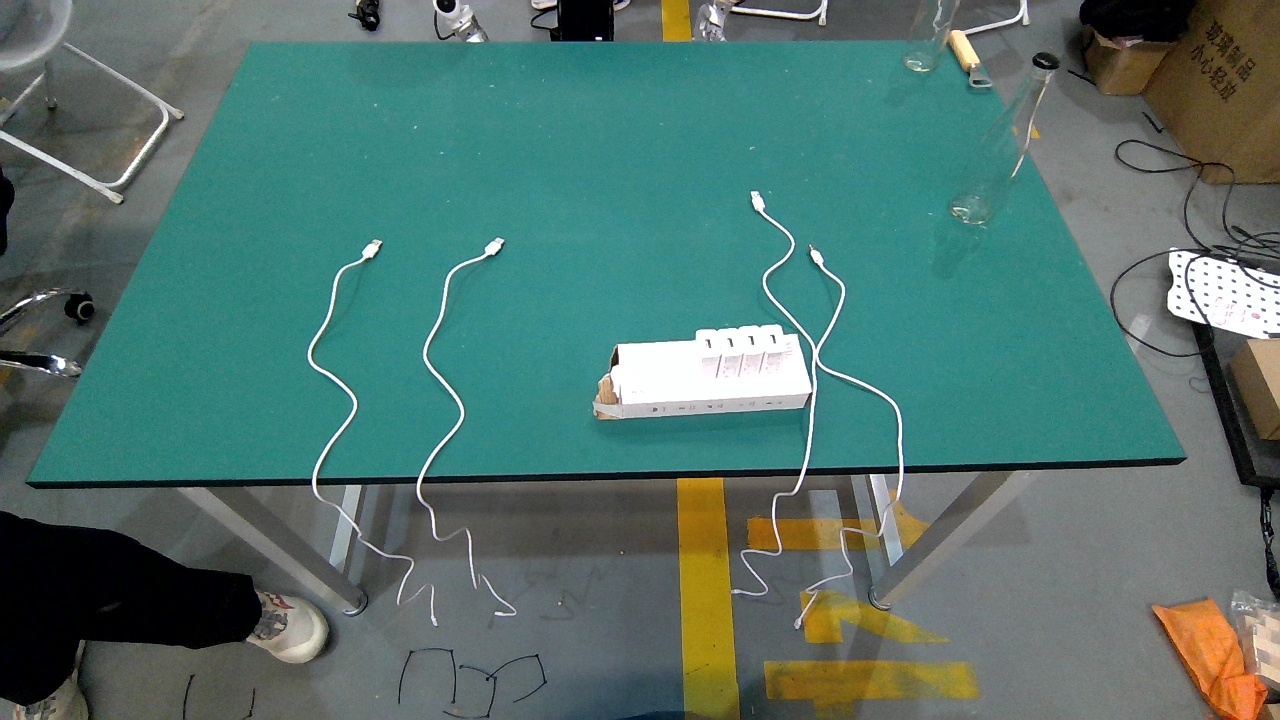usb_a_port: (726, 337, 735, 349), (747, 335, 756, 347), (704, 339, 712, 350), (769, 334, 777, 345)
